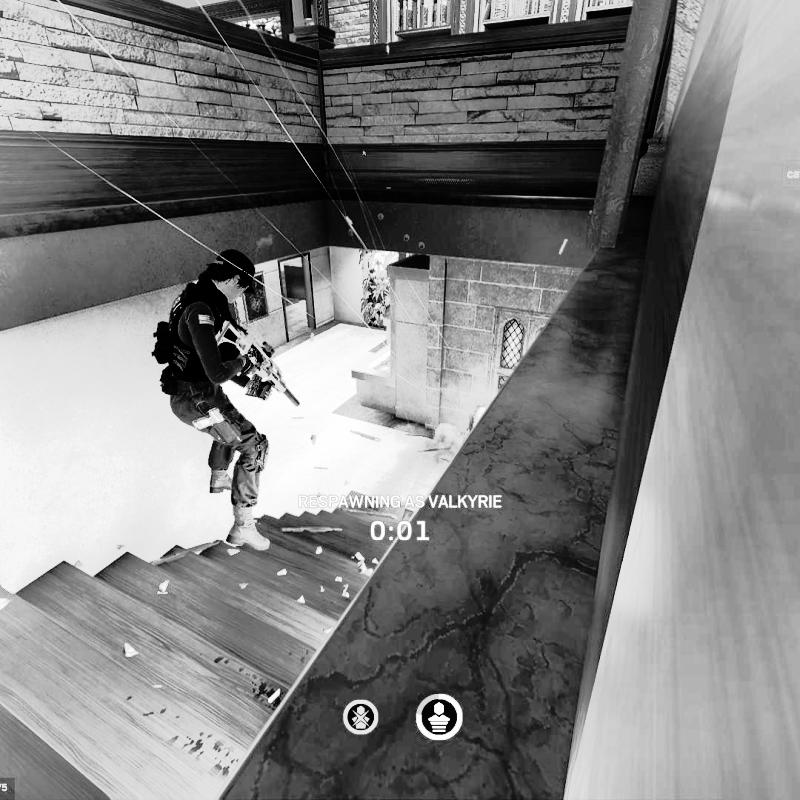Character: (146, 246, 303, 554)
Head: (208, 248, 260, 303)
